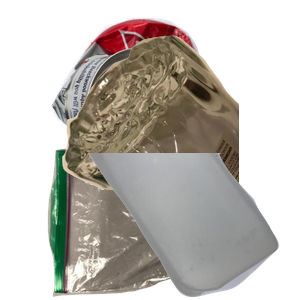glass: (60, 33, 300, 213)
metal: (48, 15, 251, 175)
plastic: (84, 153, 300, 300)
trash: (45, 144, 235, 300)
